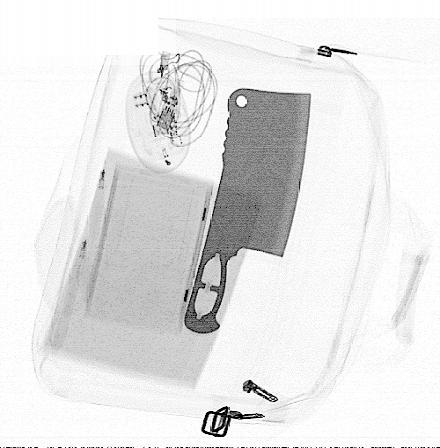Knife: (182, 86, 312, 337)
